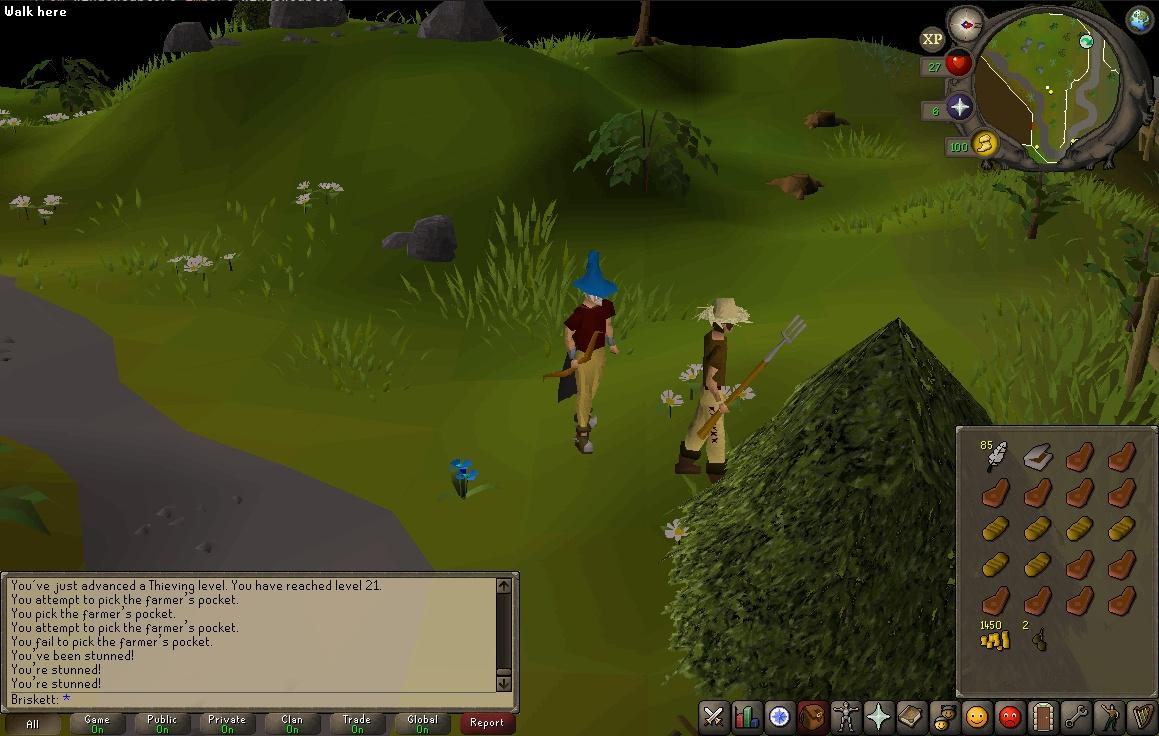Farmer: (674, 297, 756, 483)
